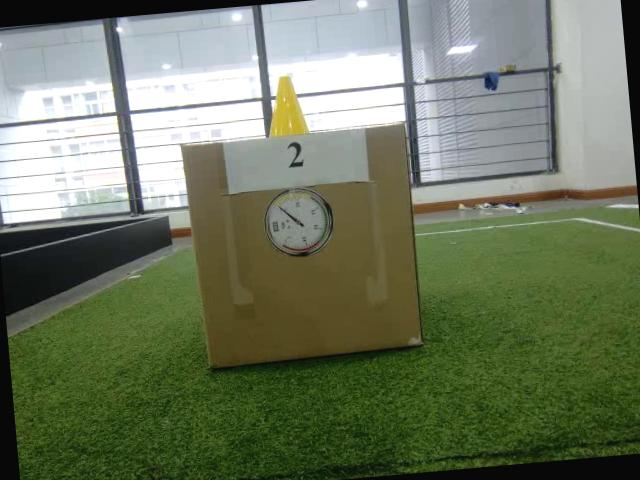2: (284, 140, 306, 171)
Dashboard: (261, 184, 337, 261)
ssi: (270, 218, 280, 234)
yellow_barrel: (260, 73, 312, 140)
